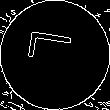L_E: (28, 36, 82, 74)
